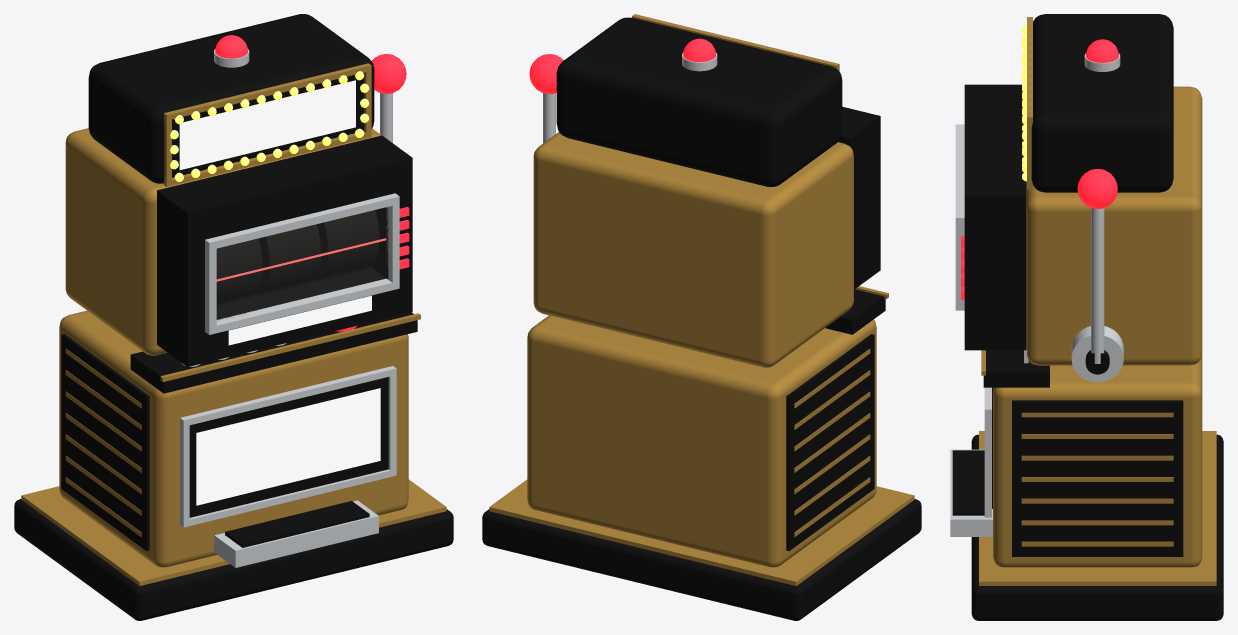
Rendered from money-machine.glb.
3 renders of one model, left to right at view 1: azimuth 30°, elevation 25°; view 2: azimuth 150°, elevation 25°; view 3: azimuth 270°, elevation 25°, orthographic.
Parts seen in each view (by area): view 1: ReelBox, Cabinet, Marquee, UpperCabinet, Base, LowerSign, SidePanel_L, MarqueeSign, WindowFrame, BaseTrim, LowerFrame, LowerPanel (+12 smaller); view 2: UpperCabinet, Cabinet, Marquee, Base, SidePanel_L, BaseTrim, ReelBox, SideStripes_L, Deck, MarqueeTrim, LeverBall, Beacon (+1 smaller); view 3: UpperCabinet, Marquee, SidePanel_R, ReelBox, Cabinet, Base, BaseTrim, SideStripes_R, CoinTrayInner, LeverRod, Deck, LeverHub (+7 smaller).
Boxes of the visible parts, box(x1,y1,x2,y2) form: ReelBox: box(157, 135, 412, 366); Cabinet: box(59, 310, 408, 567); Marquee: box(88, 14, 374, 183); UpperCabinet: box(65, 128, 381, 355); Base: box(14, 499, 453, 620); LowerSign: box(196, 388, 380, 505); SidePanel_L: box(61, 334, 149, 550); MarqueeSign: box(179, 80, 355, 169); WindowFrame: box(205, 193, 399, 334); BaseTrim: box(21, 479, 446, 585); LowerFrame: box(180, 366, 396, 527); LowerPanel: box(189, 377, 388, 517); UpperCabinet: box(533, 132, 853, 367); Cabinet: box(527, 315, 876, 567); Marquee: box(556, 17, 842, 186); Base: box(482, 499, 921, 620); SidePanel_L: box(786, 334, 874, 550); BaseTrim: box(489, 479, 914, 585); ReelBox: box(838, 106, 880, 289); SideStripes_L: box(794, 349, 870, 537); Deck: box(825, 289, 885, 334); MarqueeTrim: box(632, 14, 839, 71); LeverBall: box(529, 54, 563, 93); Beacon: box(683, 38, 715, 61); UpperCabinet: box(1026, 86, 1202, 365); Marquee: box(1031, 14, 1173, 192); SidePanel_R: box(1012, 400, 1183, 556); ReelBox: box(964, 84, 1026, 350); Cabinet: box(993, 354, 1202, 567); Base: box(971, 434, 1223, 620); BaseTrim: box(979, 431, 1216, 585); SideStripes_R: box(1021, 412, 1173, 546); CoinTrayInner: box(952, 450, 984, 515); LeverRod: box(1091, 208, 1104, 363); Deck: box(983, 350, 1049, 387); LeverHub: box(1071, 326, 1123, 382).
Bounding box in the file's own units: 1.61 × 2.34 × 1.15.
